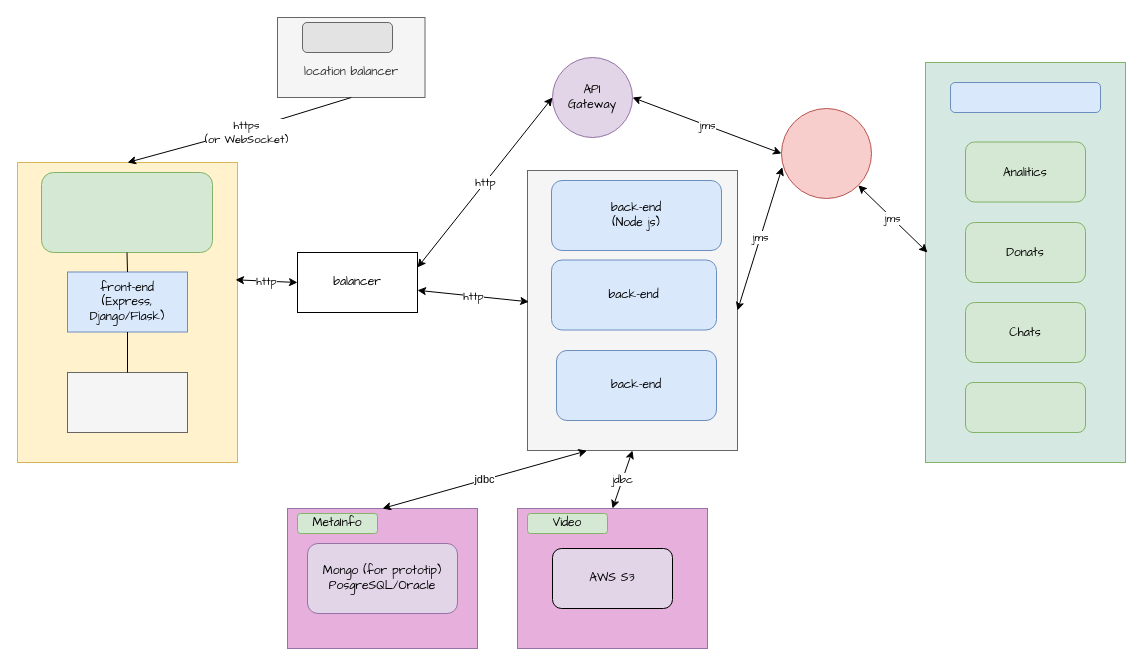
Image size: 1143x666. Some labels were removed from this diagram. Each missing label, with the centre of its shape:
"Apache ActiveMQ" belongs at point 826,153.
"file store" belongs at point 127,402.
"MicroServices" belongs at point 1025,97.
"Nginx, WebSocket-server (Node js)" belongs at point 126,212.
"Personal offers/advertising" belongs at point 1025,407.
"user" belongs at point 347,37.
